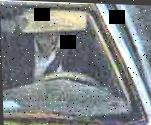seatbelt: (43, 37, 79, 75)
